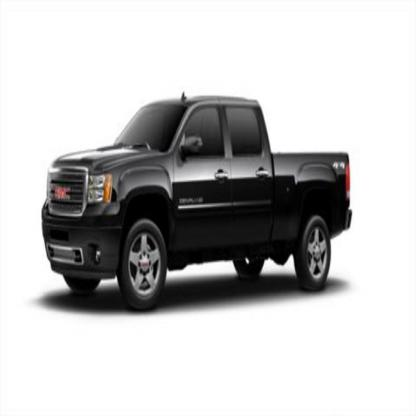Truck: (40, 90, 352, 310)
